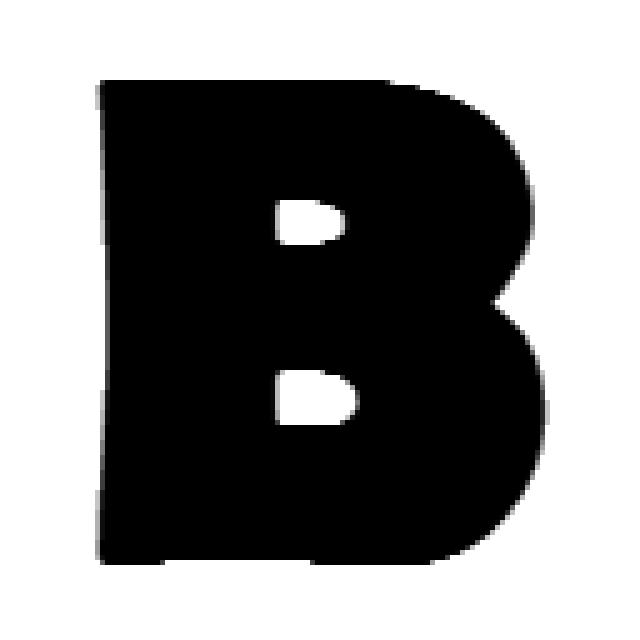B: (95, 80, 550, 570)
